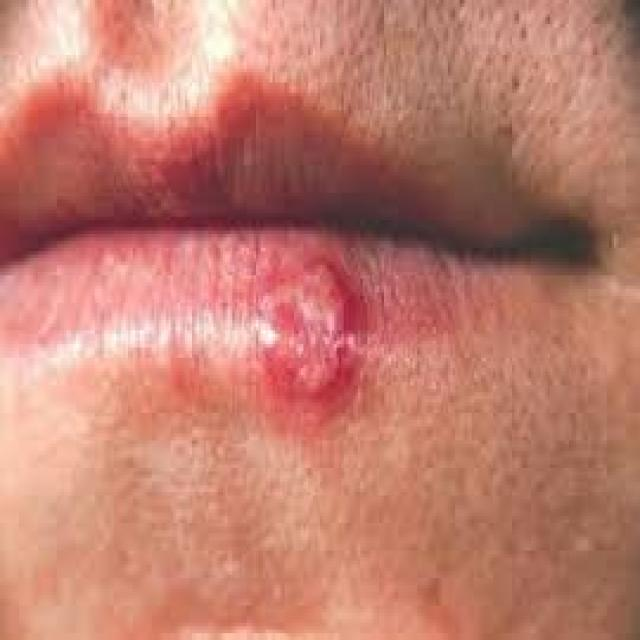processing_area: (1, 78, 624, 453)
ulcer-detection: (225, 242, 404, 428)
